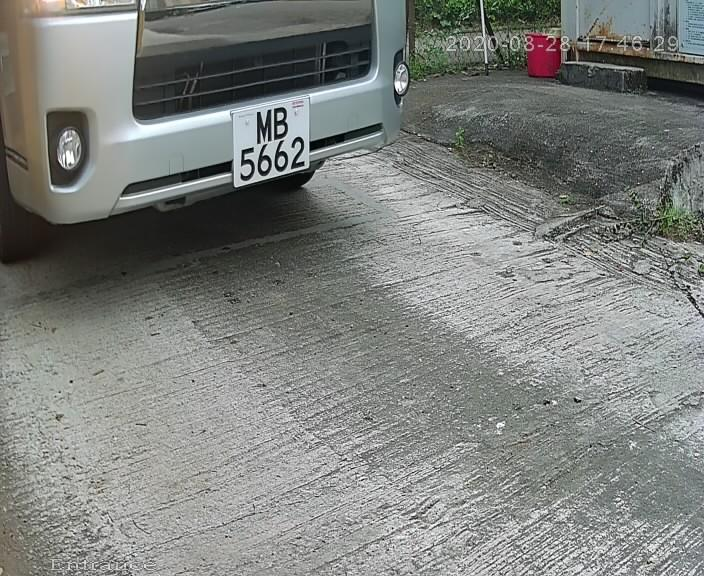License Plate: (224, 91, 321, 199)
